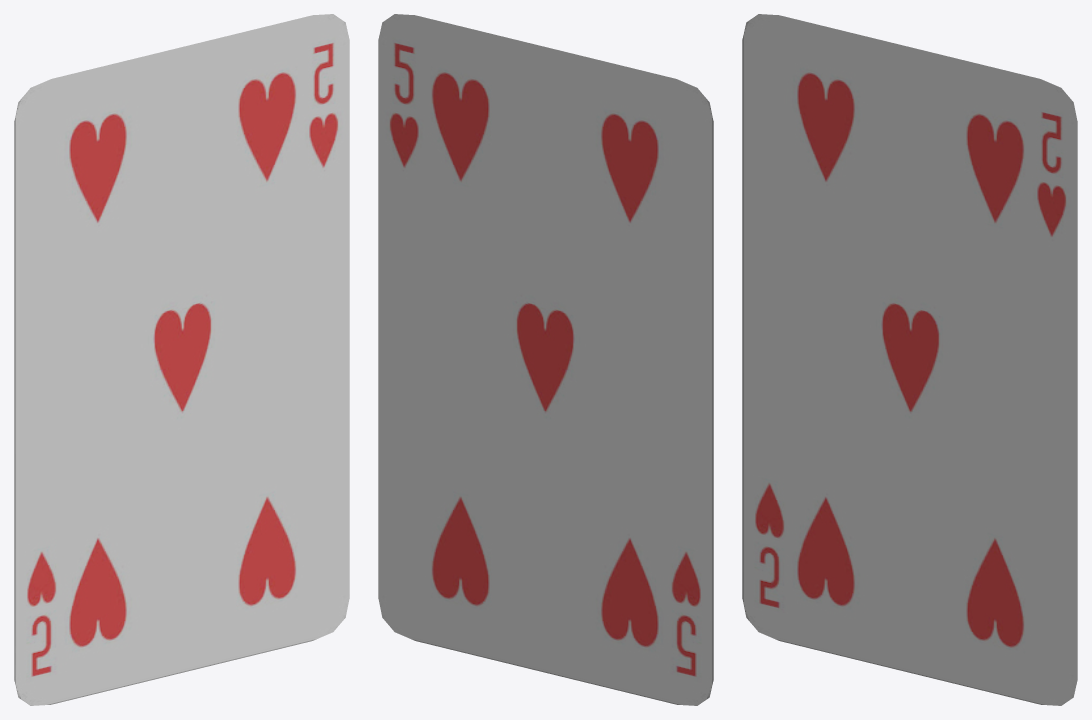
Rendered from 5_hearts.glb.
The picture shows the model from 3 angles, left to right: view 1: azimuth 30°, elevation 25°; view 2: azimuth 150°, elevation 25°; view 3: azimuth 330°, elevation 25°; orthographic projection.
Parts seen in each view (by area): view 1: Five of Hearts_5_0; view 2: Five of Hearts_5_0; view 3: Five of Hearts_5_0.
Part boxes in pixels (x1,y1,x2,y2): Five of Hearts_5_0: (14,14,349,705); Five of Hearts_5_0: (378,14,713,705); Five of Hearts_5_0: (742,14,1077,705).
Size of the model in its own units: 0.2527 by 0.4503 by 2.78e-17.
1 material, 1 textured.
